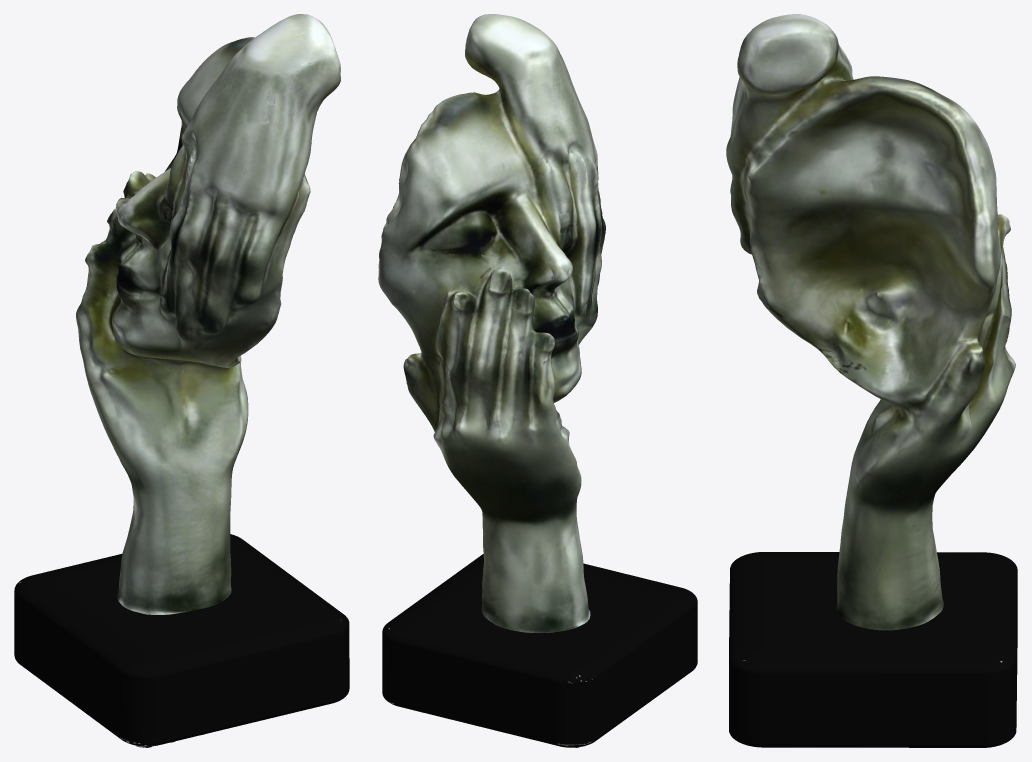
The model's file is Anxiety.glb.
3 views of the same model, side by side, from view 1: azimuth 30°, elevation 25°; view 2: azimuth 150°, elevation 25°; view 3: azimuth 270°, elevation 25° (orthographic). The views are drawn at different scales.
Visible parts, largest first — view 1: 3DModel; view 2: 3DModel; view 3: 3DModel.
Boxes of the visible parts, x1=… form: 3DModel: x1=14, y1=14, x2=349, y2=747; 3DModel: x1=378, y1=14, x2=697, y2=747; 3DModel: x1=726, y1=14, x2=1017, y2=747.
Bounding box in the file's own units: 0.0621 × 0.1695 × 0.0621.
Materials: 3 (2 with a texture image).
